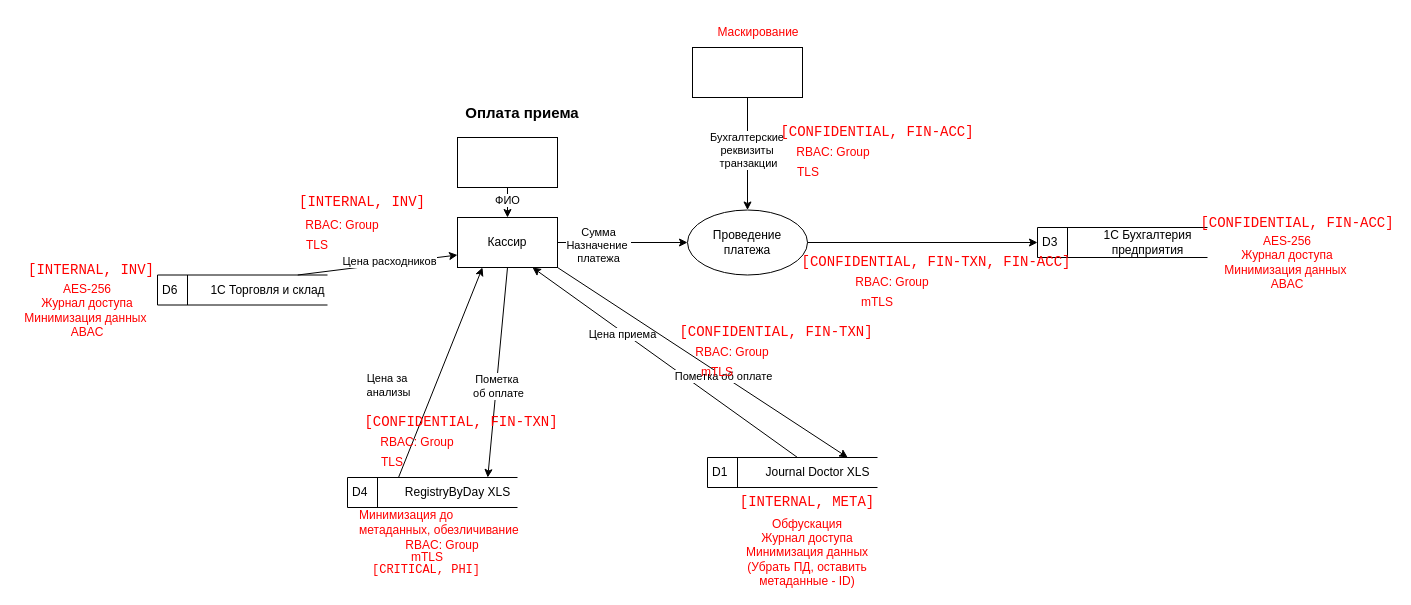
The diagram is 1411 pixels wide and 605 high, and some of its shapes have lost their labels. Each missing label, with the centre of its shape:
Касса: point (747, 72)
Клиент: point (507, 162)
